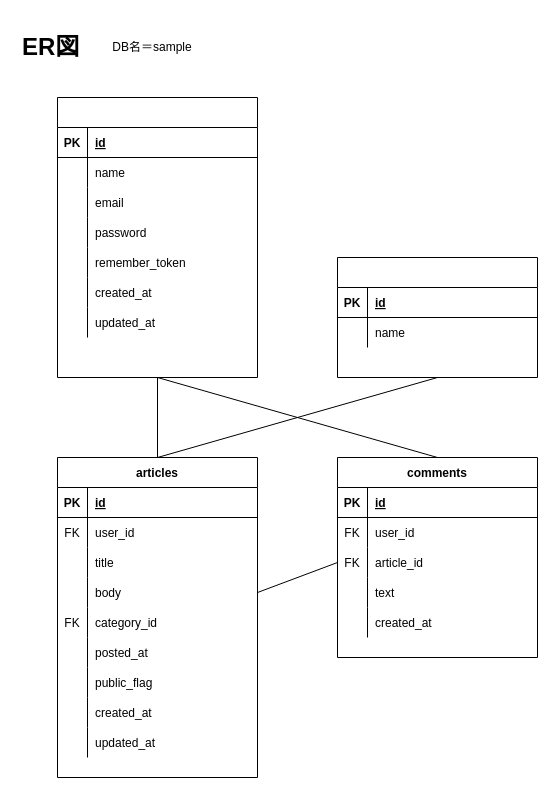
Some shapes in this 555 by 795 pixel diagram are drawn without their labels. Each missing label, with the box of its shape:
categories: (336, 256, 538, 378)
users: (56, 96, 258, 378)
